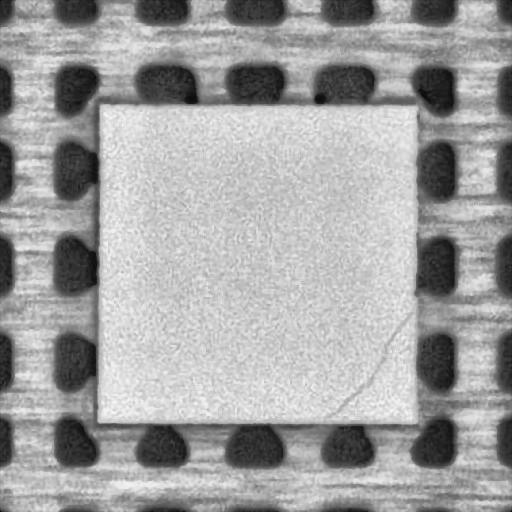DIE_CRACK: (322, 310, 412, 418)
